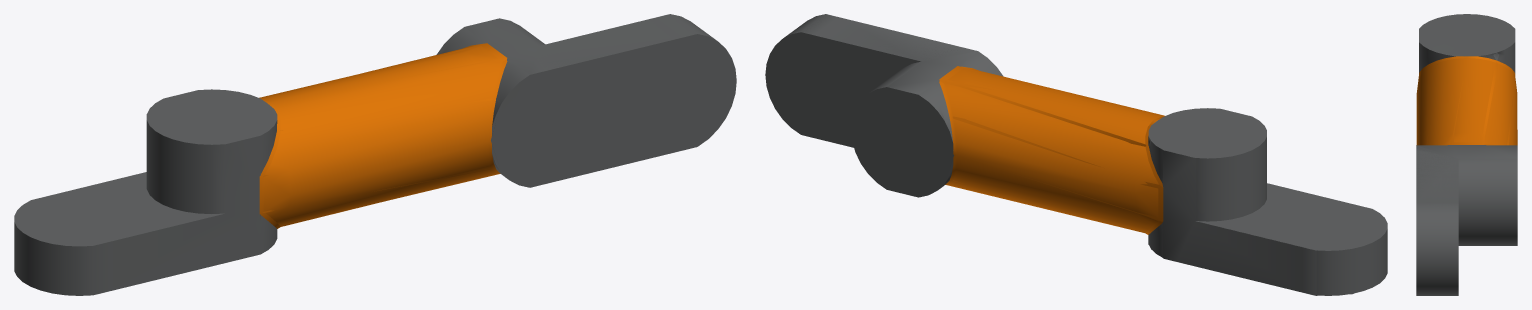
The picture shows the model from 3 angles, left to right: view 1: azimuth 30°, elevation 25°; view 2: azimuth 150°, elevation 25°; view 3: azimuth 270°, elevation 25°; orthographic projection. The views are drawn at different scales.
Parts seen in each view (by area): view 1: i2_LOD0, i2_col; view 2: i2_LOD0, i2_col; view 3: i2_LOD0, i2_col.
Part boxes in pixels (x1,y1,x2,y2): i2_LOD0: (14,14,736,295); i2_col: (260,14,719,226); i2_LOD0: (765,14,1387,295); i2_col: (766,14,1379,295); i2_LOD0: (1416,14,1517,295); i2_col: (1416,42,1517,208).
Size of what is drawn, in the model's own units: 72 by 12.04 by 12.
